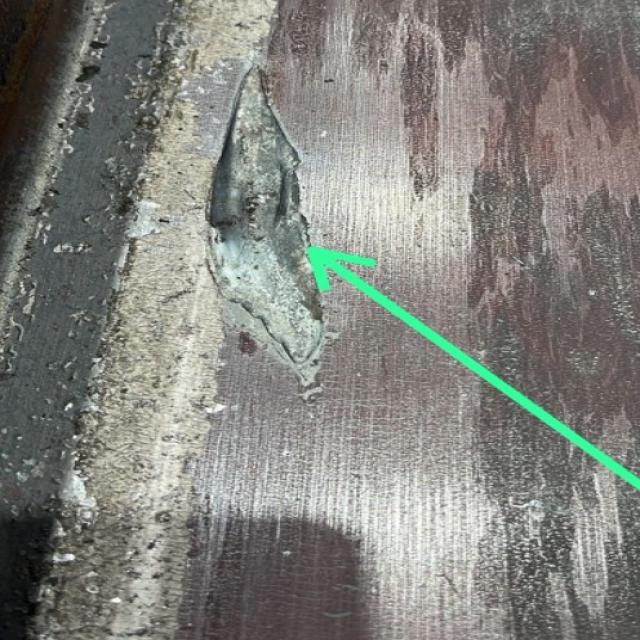defect: (209, 66, 327, 399)
